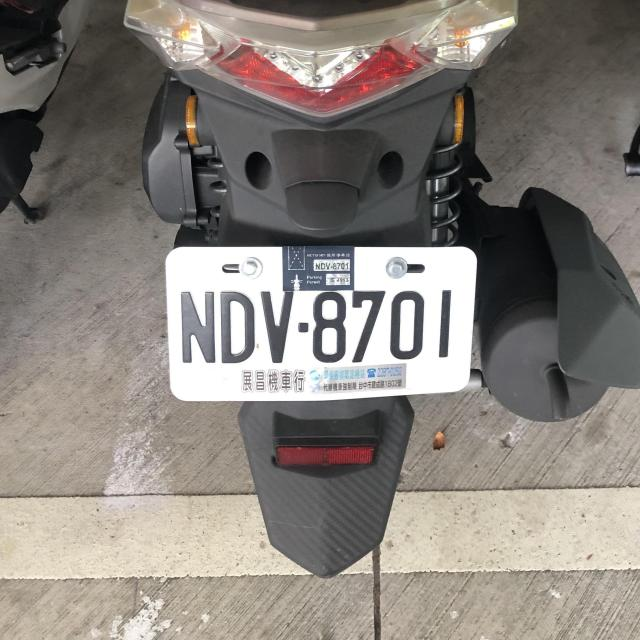W: (159, 244, 479, 405)
